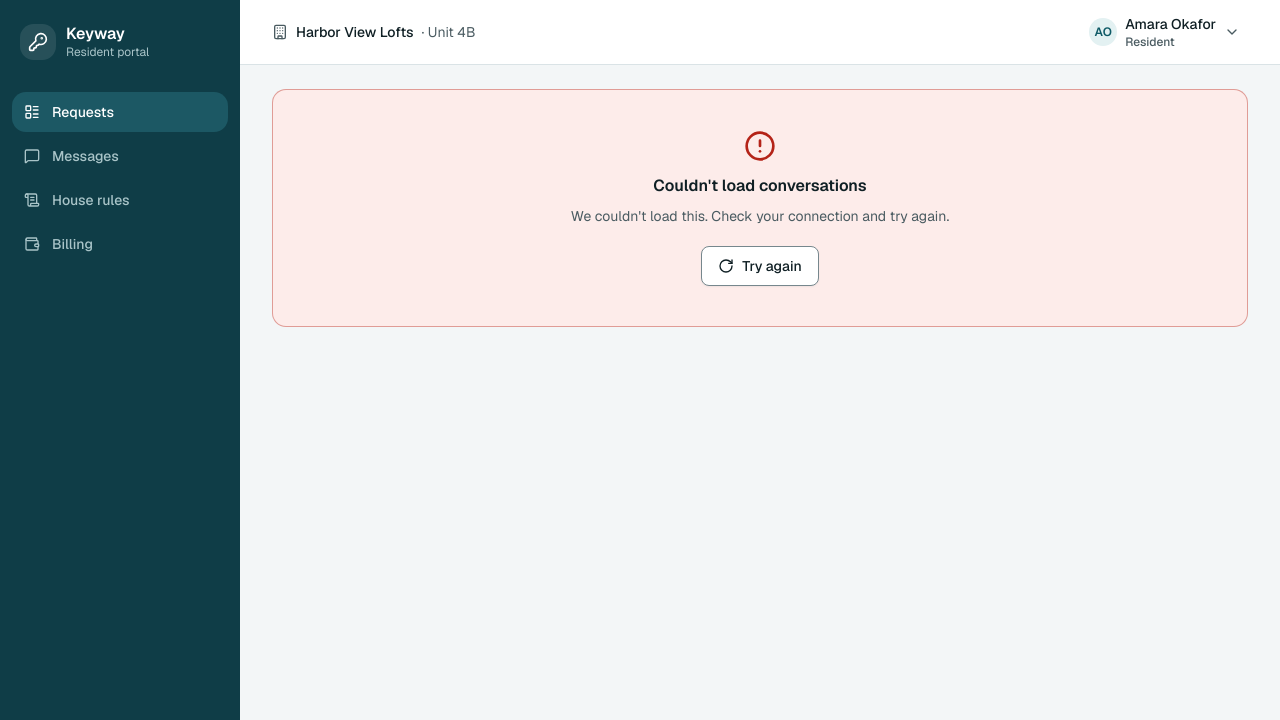
ThreadList › shows an error with a working retry
Check: the message shows "Couldn't load conversations", box x1=653 y1=175 x2=867 y2=196
Click the button "Try again" at (760, 266), box x1=701 y1=246 x2=819 y2=286
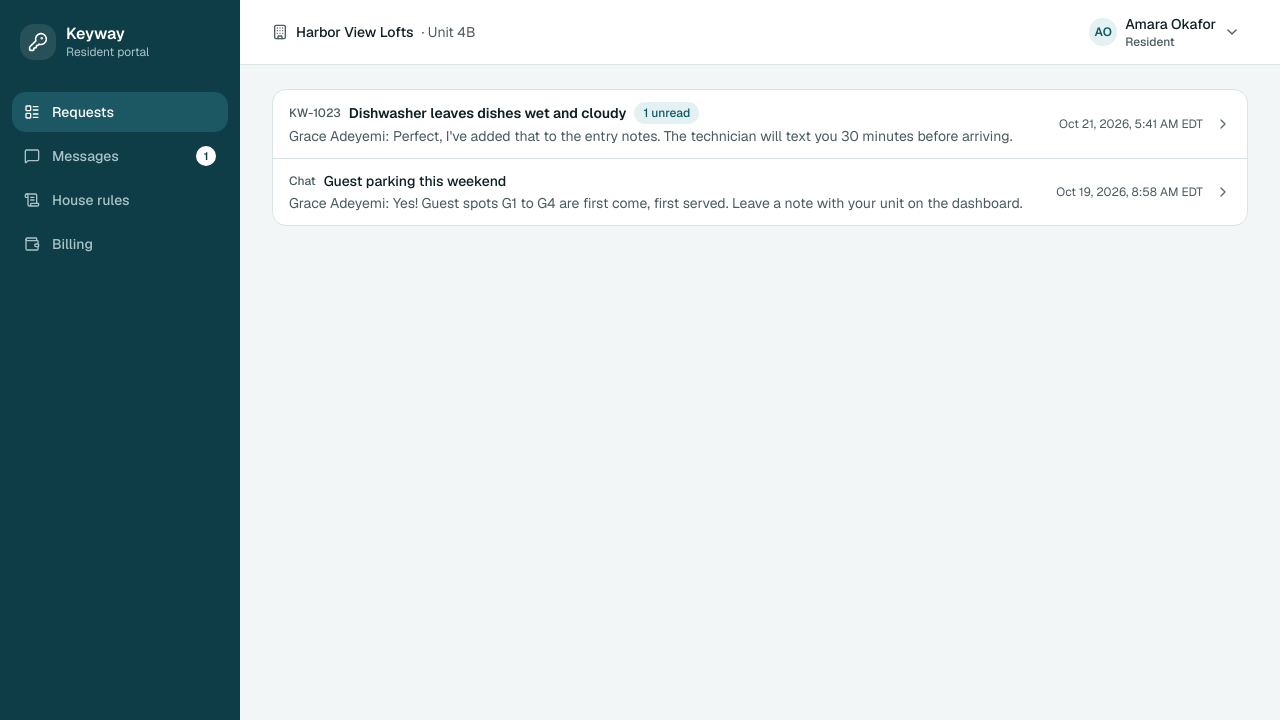
Check: the list named "Conversations" is shown, box x1=272 y1=89 x2=1248 y2=226
